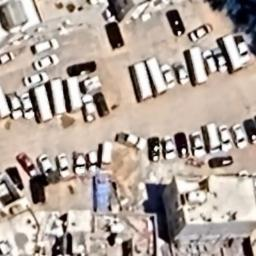pickup: (113, 128, 148, 152), (228, 34, 256, 64), (78, 94, 96, 124)
sedan: (30, 52, 64, 74), (12, 151, 38, 178), (5, 91, 25, 122), (144, 132, 164, 163), (216, 126, 238, 154), (156, 62, 178, 90), (188, 22, 216, 44), (34, 153, 56, 180), (19, 92, 36, 123), (187, 133, 207, 159), (174, 130, 191, 160), (232, 122, 249, 152), (70, 149, 88, 176), (20, 72, 50, 88), (213, 46, 229, 76), (54, 153, 72, 179), (174, 60, 190, 84), (162, 134, 176, 160)
truck: (27, 35, 63, 57)
unknown: (162, 6, 190, 40), (102, 19, 129, 53), (66, 60, 101, 78), (92, 92, 114, 120), (208, 155, 237, 170)
van: (200, 123, 224, 155), (202, 48, 217, 76)
